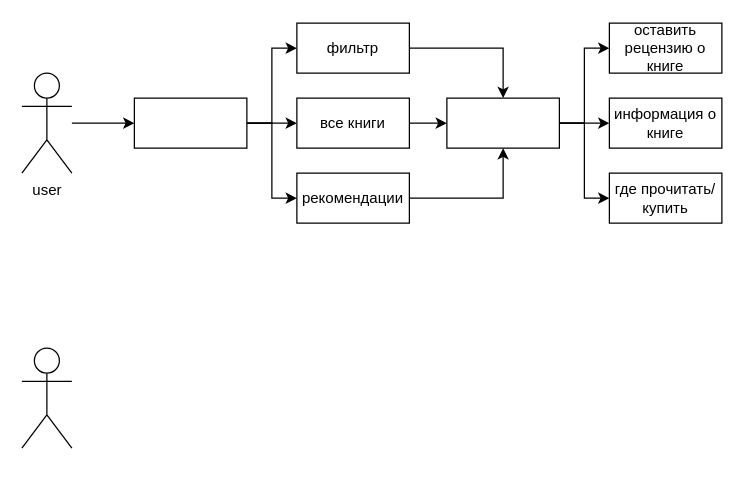
Some shapes in this 744 by 496 pixel diagram are drawn without their labels. Each missing label, with the box of its shape:
admin: (21, 347, 72, 448)
главная страница: (133, 97, 247, 148)
книга: (446, 97, 559, 148)
